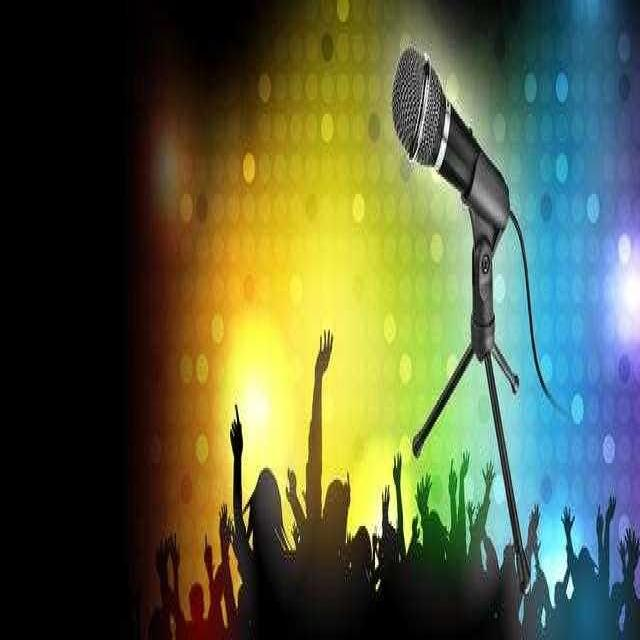microphone: (391, 44, 511, 246)
